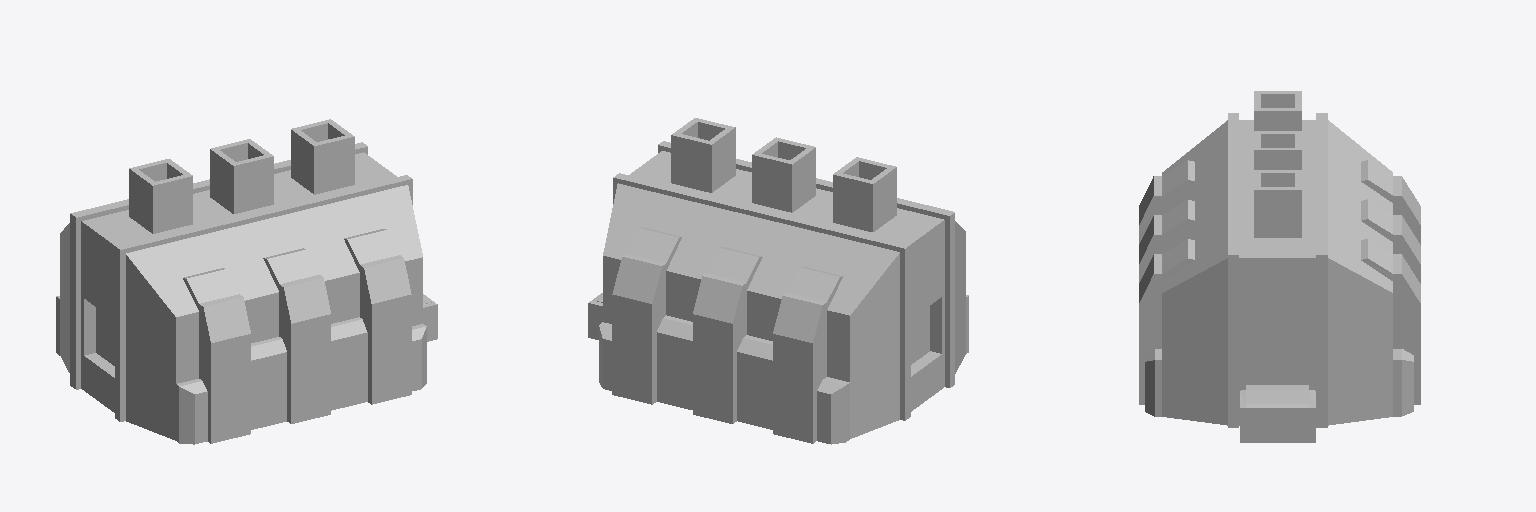
File: siderurgia.obj
3 renders of one model, left to right at view 1: azimuth 30°, elevation 25°; view 2: azimuth 150°, elevation 25°; view 3: azimuth 270°, elevation 25°, orthographic.
Visible parts, largest first — view 1: Cube; view 2: Cube; view 3: Cube.
Boxes of the visible parts, <box> form: Cube: <box>56,119,437,444</box>; Cube: <box>588,118,968,444</box>; Cube: <box>1139,91,1420,442</box>.
Bounding box in the file's own units: 6.82 × 4.36 × 5.17.